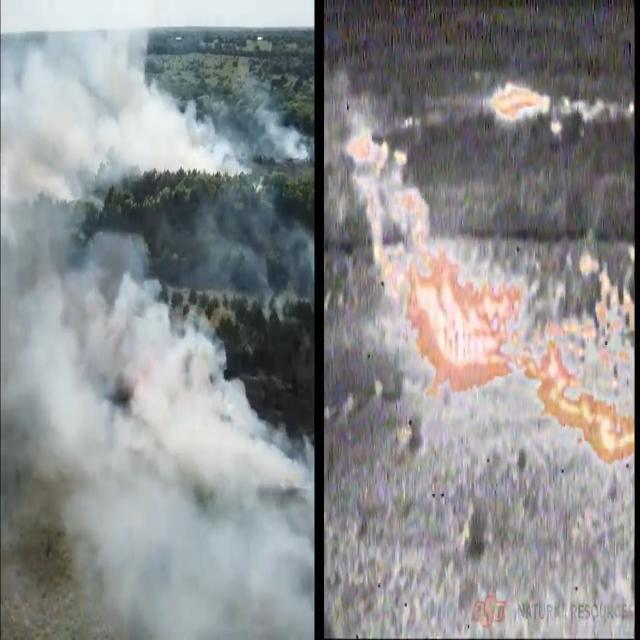fire: (523, 253, 640, 466), (374, 245, 527, 403), (351, 126, 436, 236), (487, 80, 567, 142)
